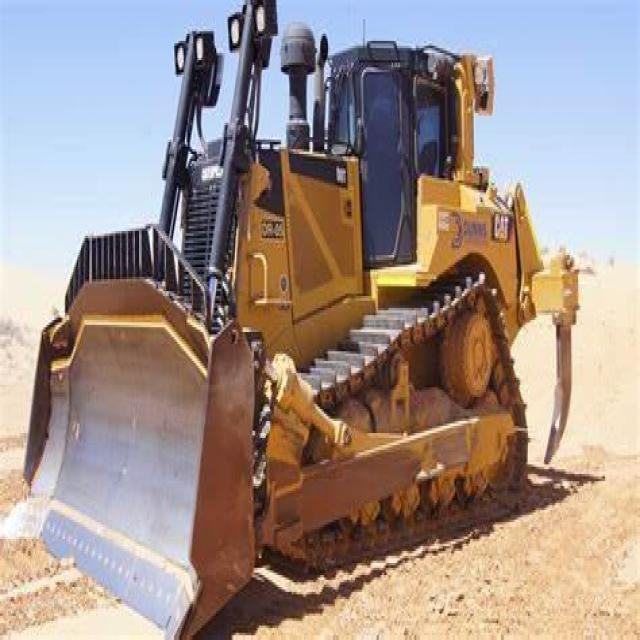buldozerpayloadergrader: (23, 0, 590, 621)
